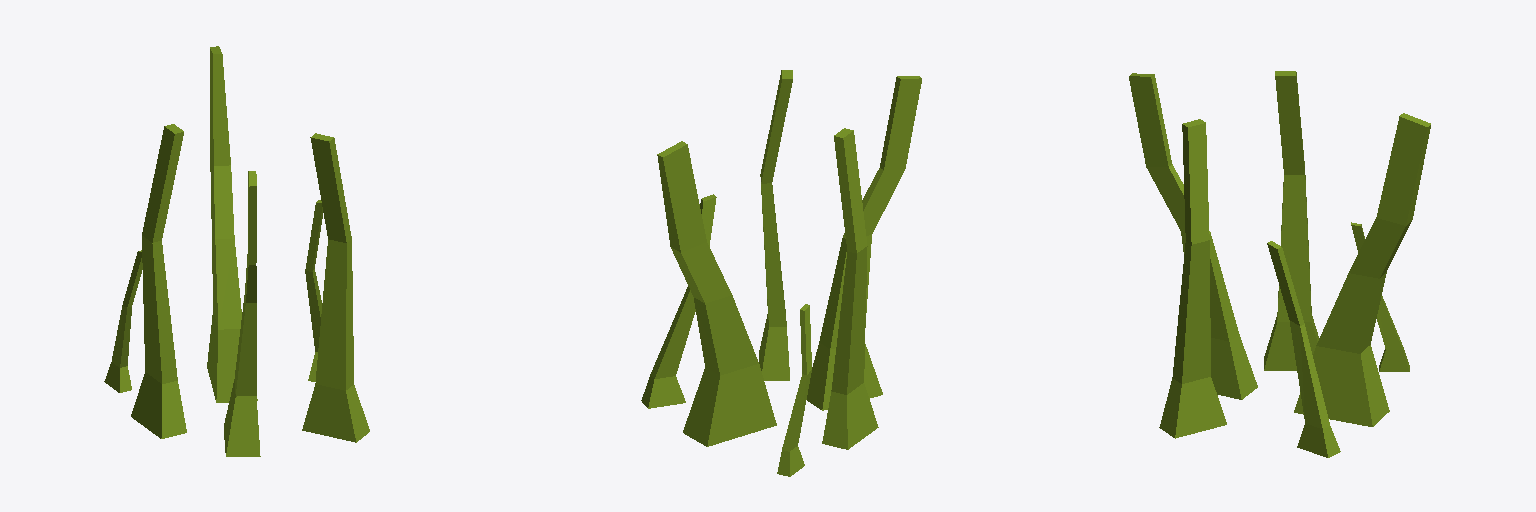
File: Grass2.obj
3 views of the same model, side by side, from view 1: azimuth 30°, elevation 25°; view 2: azimuth 150°, elevation 25°; view 3: azimuth 270°, elevation 25° (orthographic).
Visible parts, largest first — view 1: Grass2_Cube.003; view 2: Grass2_Cube.003; view 3: Grass2_Cube.003.
Boxes of the visible parts, box(x1,y1,x2,y2) form: Grass2_Cube.003: box(104, 46, 369, 456); Grass2_Cube.003: box(641, 70, 921, 476); Grass2_Cube.003: box(1129, 71, 1430, 457).
Size of the model in its own units: 0.1646 by 0.2336 by 0.2104.